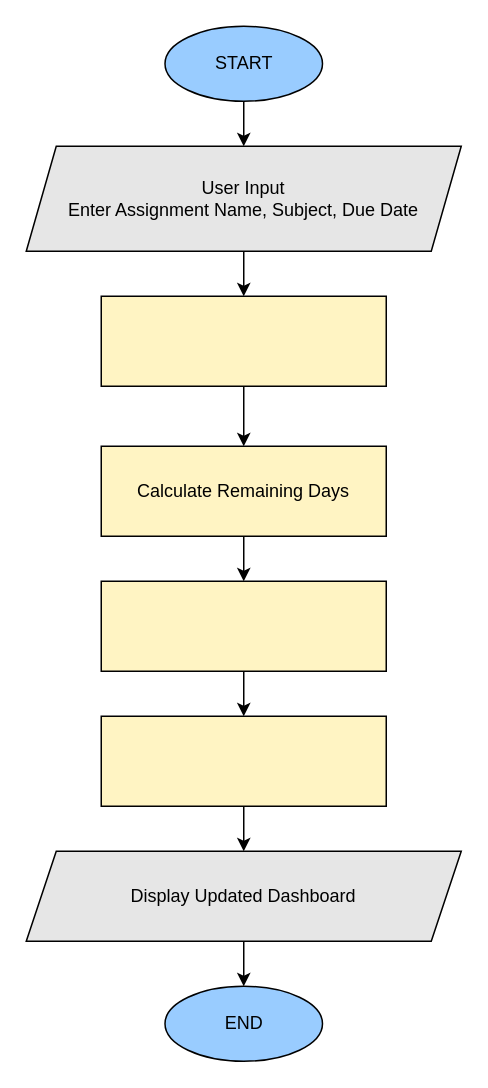
The diagram is 488 pixels wide and 1088 high, and some of its shapes have lost their labels. The shapes that lost their labels are listed below. From the top down, each one's box as (x1, y1, x2, y2) in pixels, then its label:
(100, 295, 386, 386): Create New Assignment
(100, 580, 386, 671): Determine Priority
(100, 715, 386, 806): Generate Reminder
